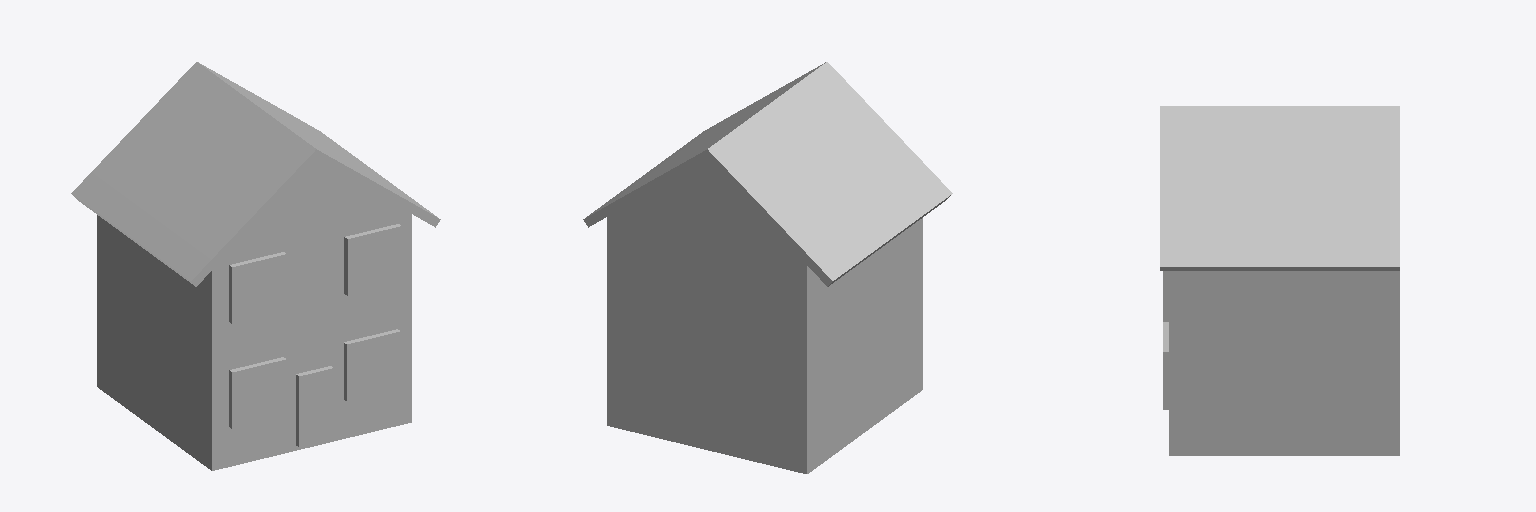
Rendered from house.obj.
The picture shows the model from 3 angles: view 1: azimuth 30°, elevation 25°; view 2: azimuth 150°, elevation 25°; view 3: azimuth 270°, elevation 25°; orthographic projection.
Parts seen in each view (by area): view 1: Cube; view 2: Cube; view 3: Cube.
Boxes of the visible parts, <box> form: Cube: <box>71,62,440,470</box>; Cube: <box>583,62,952,473</box>; Cube: <box>1160,106,1399,455</box>.
Bounding box in the file's own units: 0.3047 × 0.3509 × 0.2536.